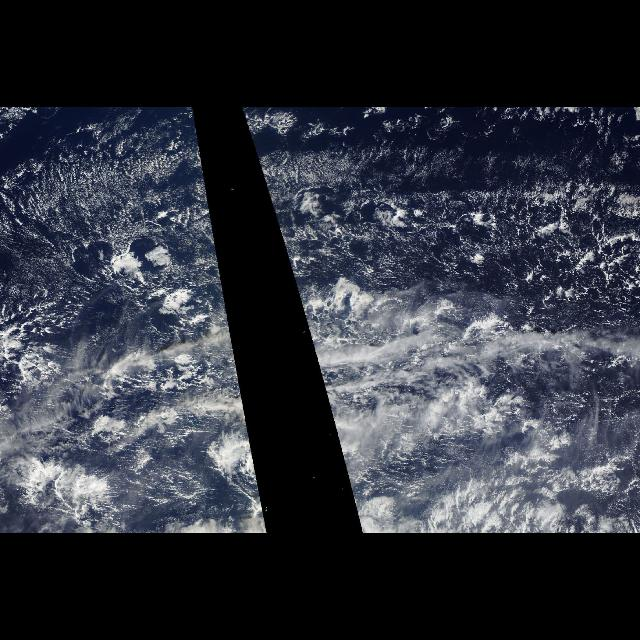Gravel: (258, 162, 640, 336), (43, 162, 233, 336)
Sugar: (9, 114, 217, 246), (242, 114, 446, 246)
